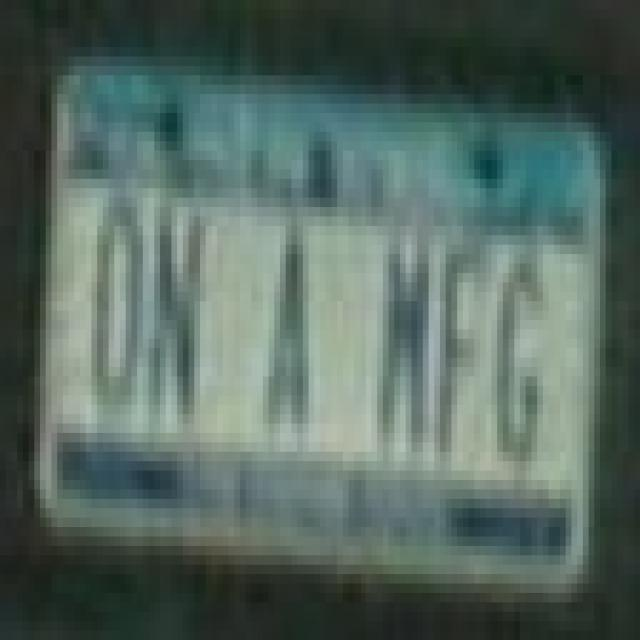licenseplate: (26, 51, 617, 612)
